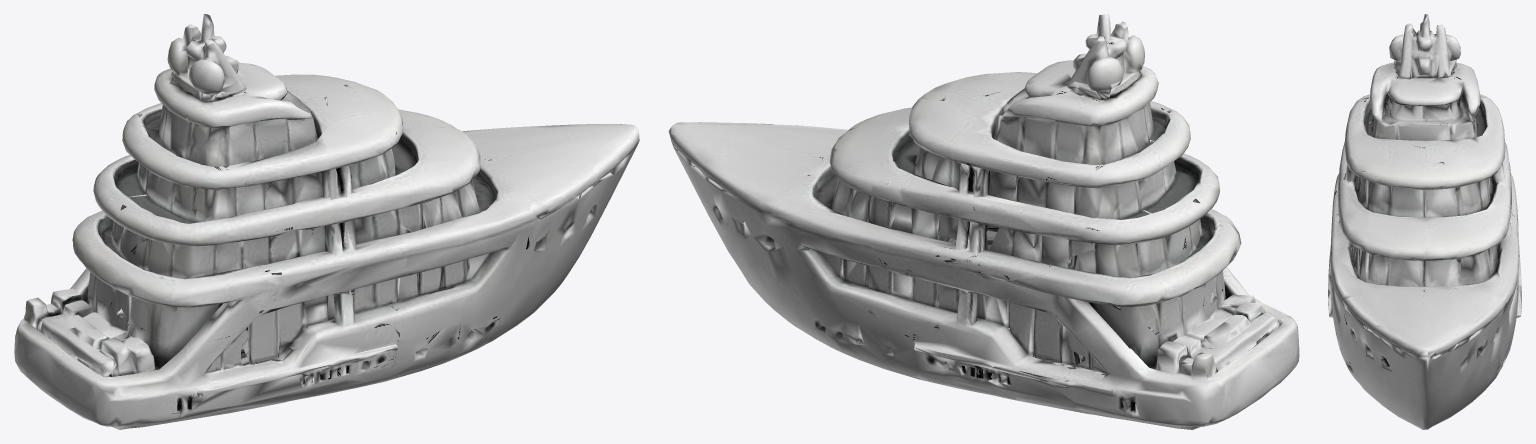
The model's file is superyacht.glb.
3 views of the same model, side by side, from view 1: azimuth 30°, elevation 25°; view 2: azimuth 150°, elevation 25°; view 3: azimuth 270°, elevation 25° (orthographic). The views are drawn at different scales.
Visible parts, largest first — view 1: prop; view 2: prop; view 3: prop.
Part boxes in pixels (bbox=[...]): prop: bbox=[14, 14, 639, 429]; prop: bbox=[668, 14, 1299, 429]; prop: bbox=[1328, 14, 1521, 429].
Size of the model in its own units: 1.69 by 1 by 0.611.
1 material, 1 textured.
